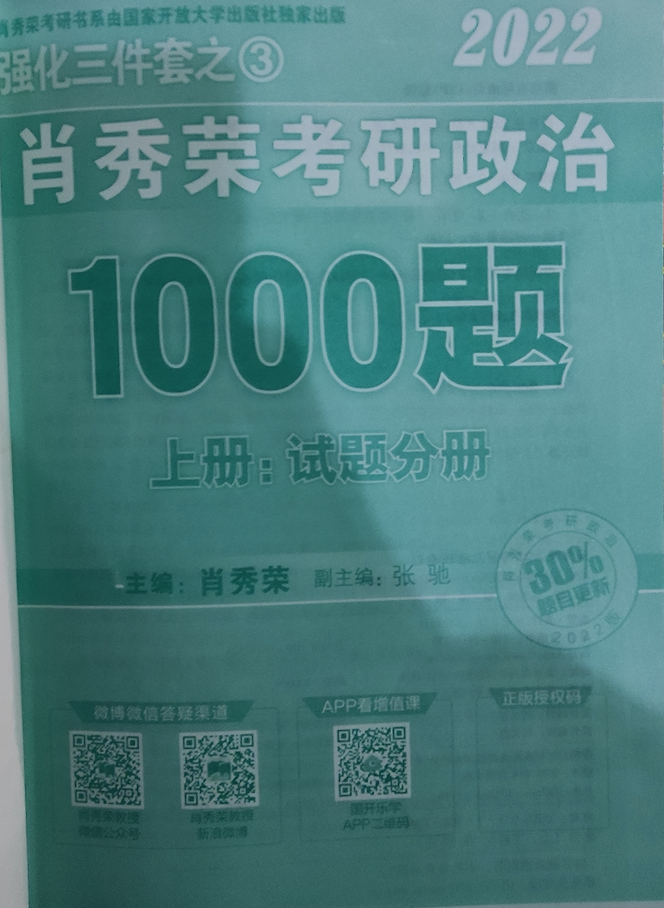Text_area: (4, 7, 624, 204), (72, 234, 576, 407), (51, 678, 453, 845), (156, 424, 498, 506), (108, 553, 471, 609), (510, 515, 643, 664)
